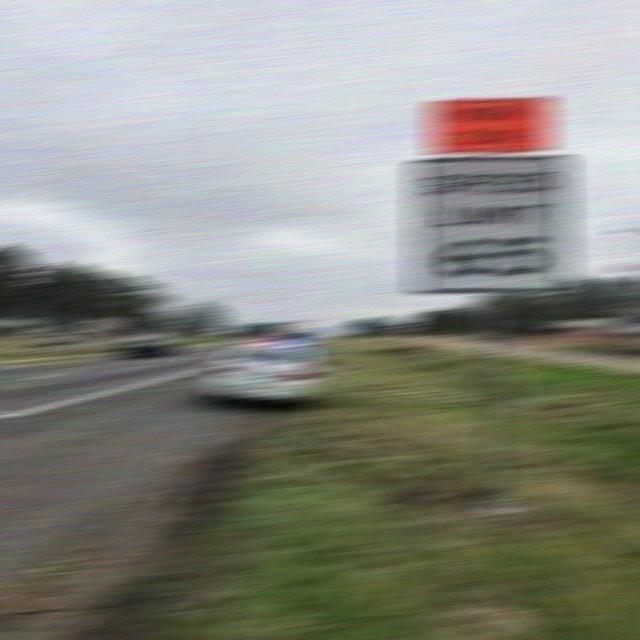speedLimit65: (408, 153, 580, 294)
